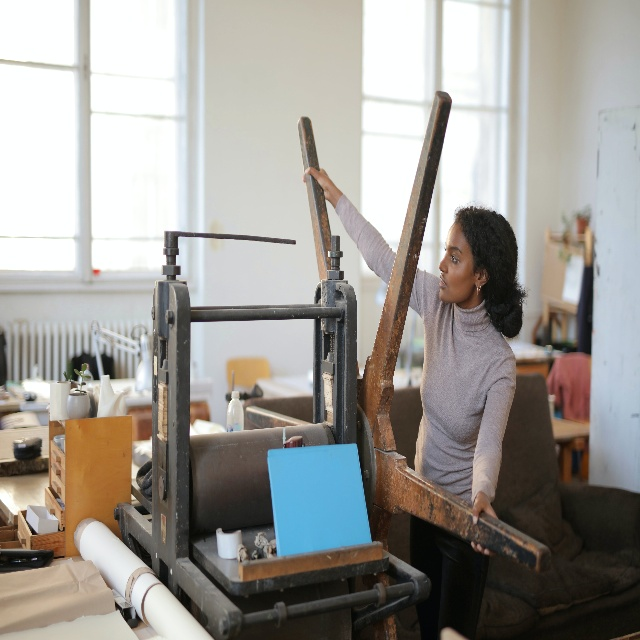Sin_guantes: (470, 495, 498, 556), (302, 162, 330, 203)
